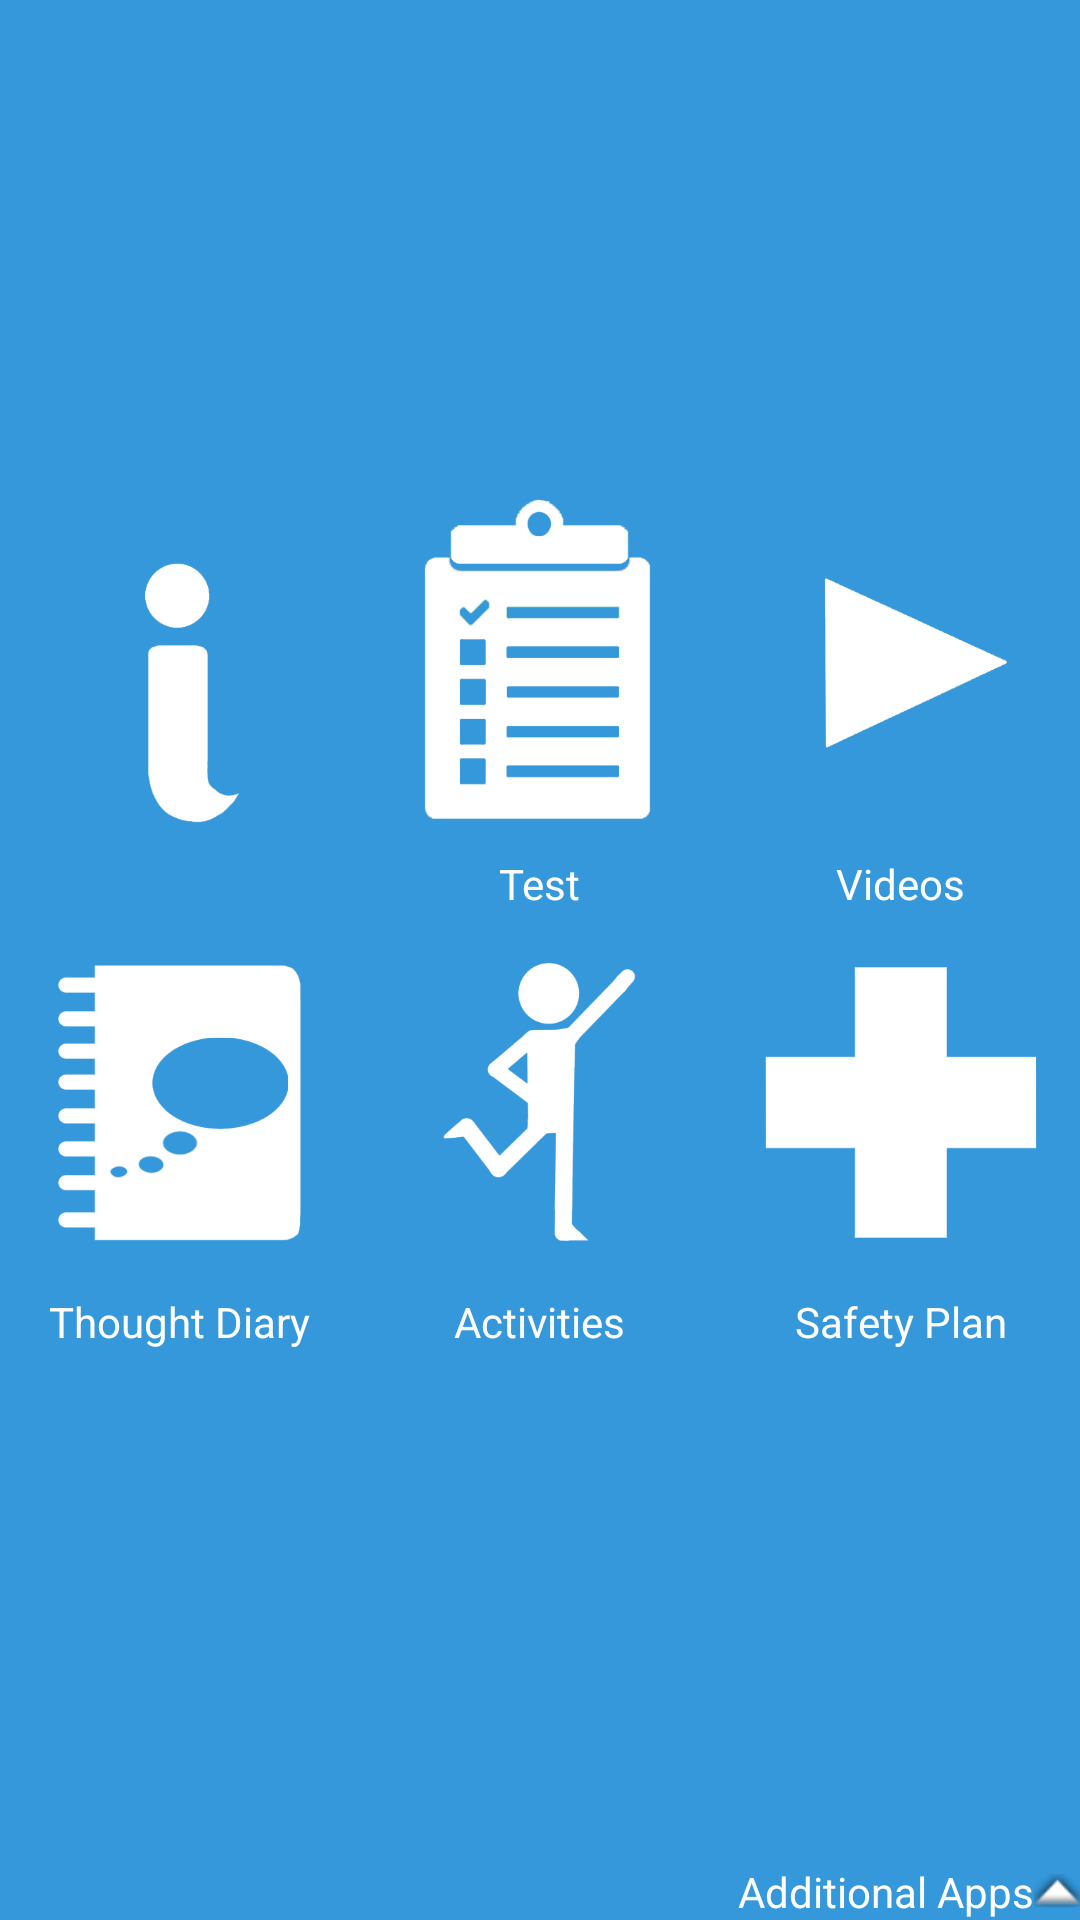

Icon bounding boxes for this 1080px×1920px phone screenshot, format [x1=x1, y1=y1, x2=x2, y2=y2]:
largeitransparent: [x1=145, y1=563, x2=239, y2=823]
